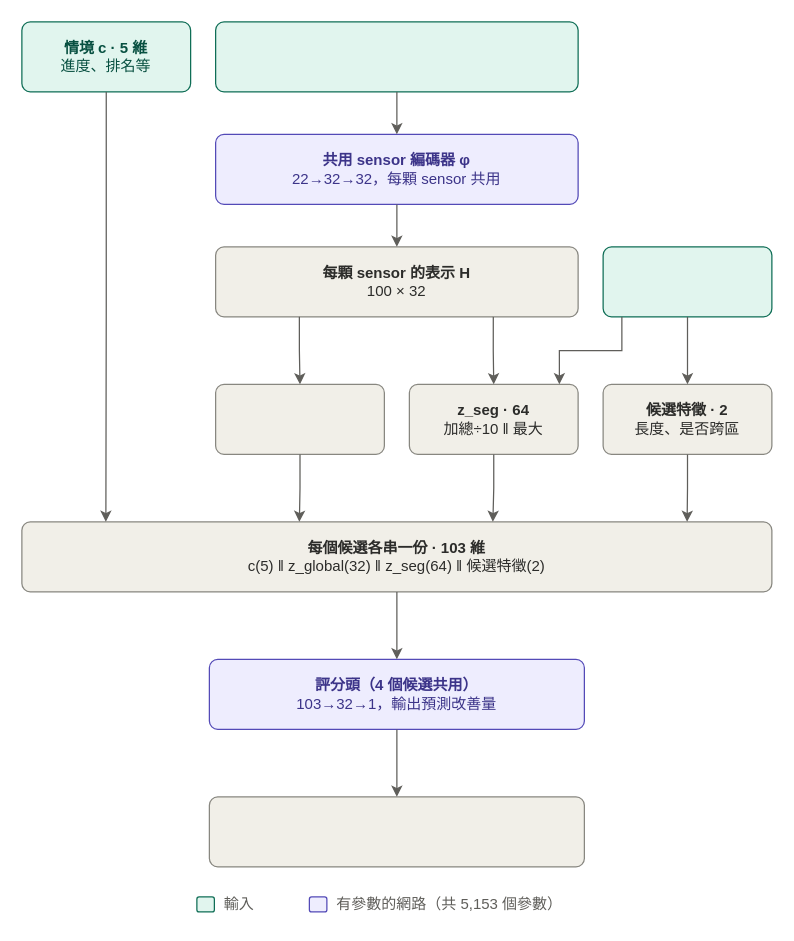
Image size: 794x941. Some labels were removed from this diagram. Each missing label, with the box of its shape:
4 個候選範圍 每區抽一個: (602, 246, 772, 317)
4 個分數 → 選最大 拿去交換、突變: (208, 796, 584, 867)
z_global · 32 100 顆平均: (214, 383, 384, 454)
雙親 sensor 特徵 X · 100 × 22 共同5・S解碼7・G解碼7・差異3: (214, 21, 578, 92)
